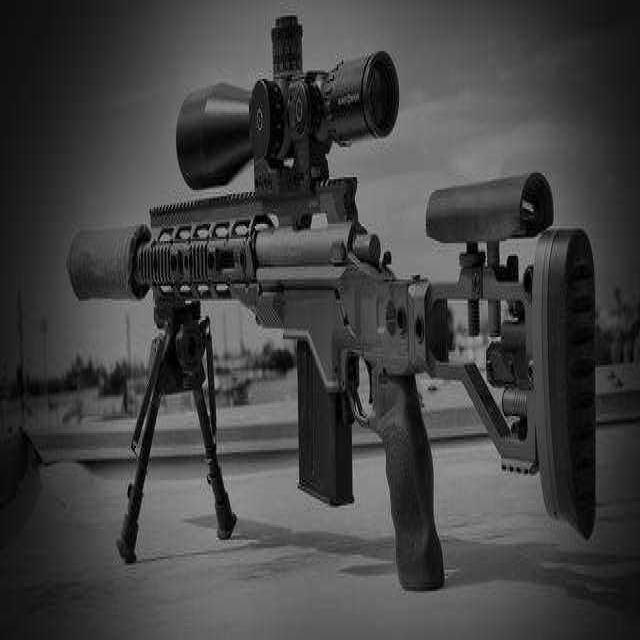weapon: (47, 38, 617, 566)
